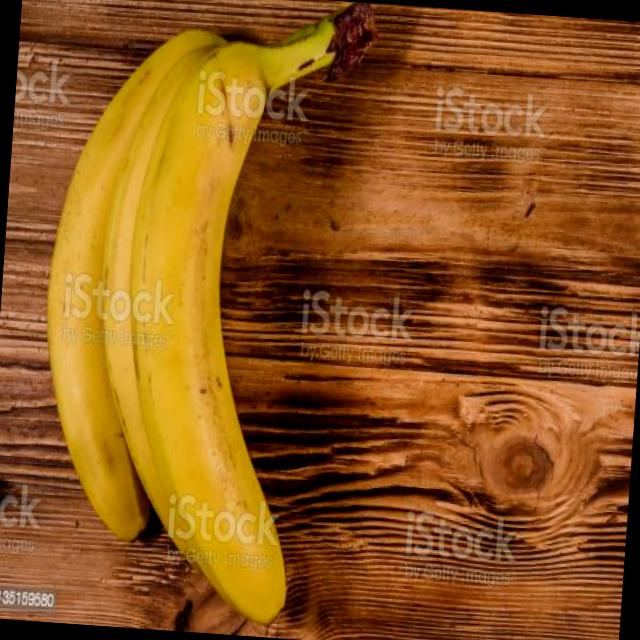banana: (15, 0, 378, 636)
